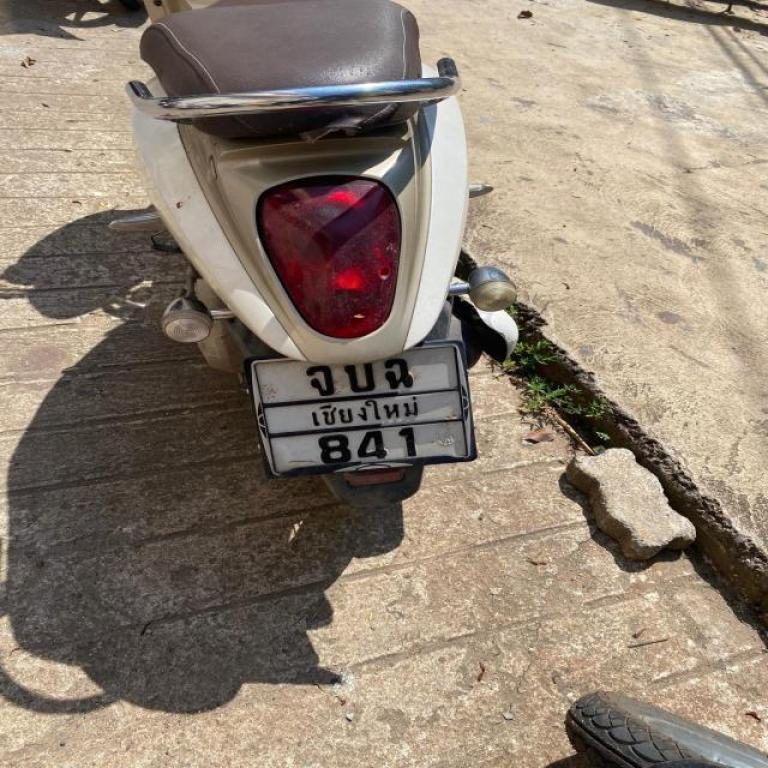license plate: (247, 342, 474, 474)
